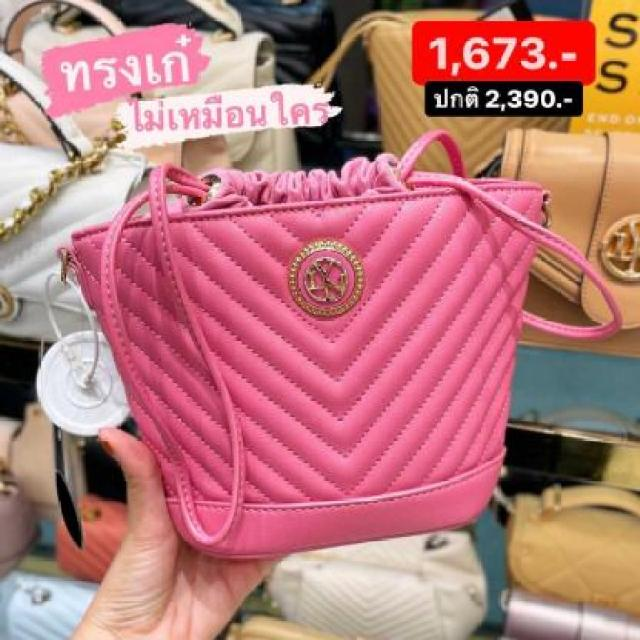Bag: (61, 113, 640, 559)
